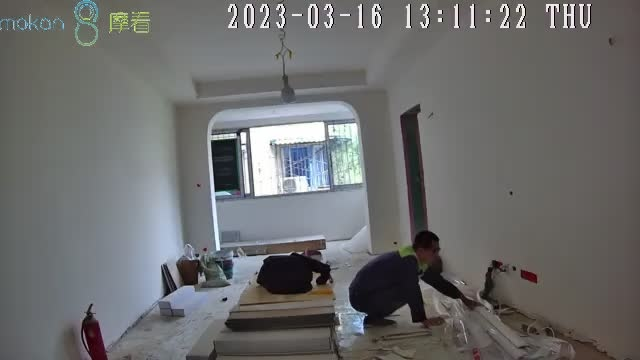people: (348, 231, 482, 326)
window: (210, 119, 364, 199)
